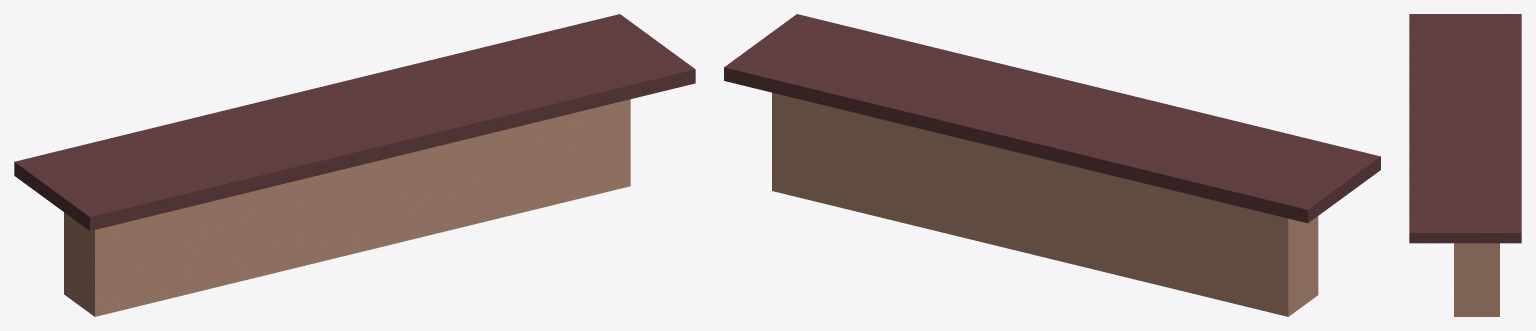
File: PR_CounterStraight.fbx
3 renders of one model, left to right at view 1: azimuth 30°, elevation 25°; view 2: azimuth 150°, elevation 25°; view 3: azimuth 270°, elevation 25°, orthographic. The views are drawn at different scales.
Parts seen in each view (by area): view 1: pCube1; view 2: pCube1; view 3: pCube1.
Part boxes in pixels (x1=…): pCube1: x1=14, y1=14, x2=695, y2=316; pCube1: x1=724, y1=14, x2=1380, y2=316; pCube1: x1=1409, y1=14, x2=1521, y2=316.
Size of the model in its own units: 452 by 93 by 97.83.
